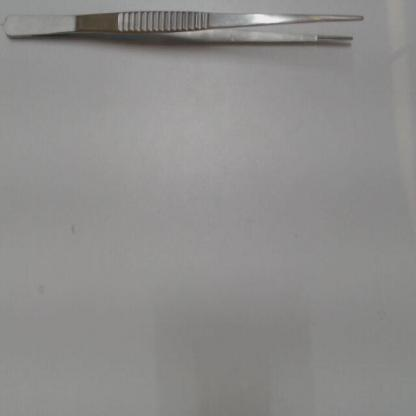DeBakey Dissector: (2, 5, 379, 58)
